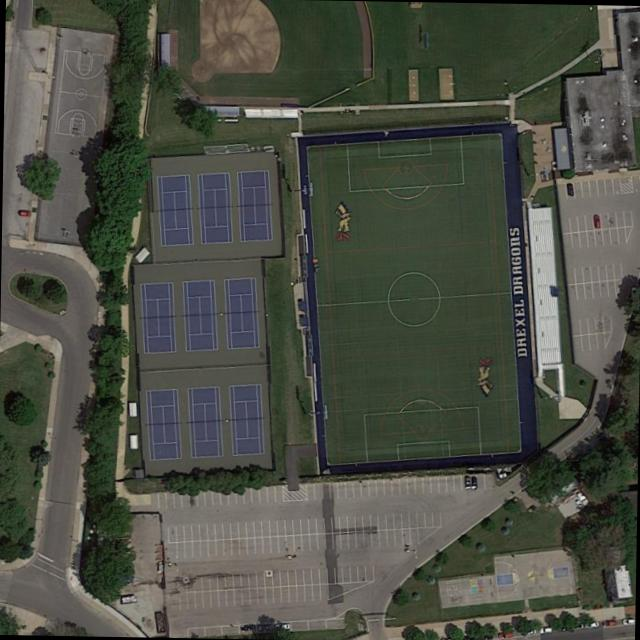small-vehicle: (256, 623, 274, 632), (240, 624, 257, 633), (17, 209, 32, 218), (498, 630, 513, 639), (523, 627, 538, 636), (593, 214, 602, 229), (566, 183, 575, 198), (601, 619, 617, 627), (276, 622, 290, 631), (554, 624, 569, 632), (587, 620, 600, 629), (464, 477, 472, 491), (570, 622, 584, 630), (479, 633, 495, 640), (538, 626, 553, 633), (471, 475, 478, 489), (463, 635, 478, 640)
